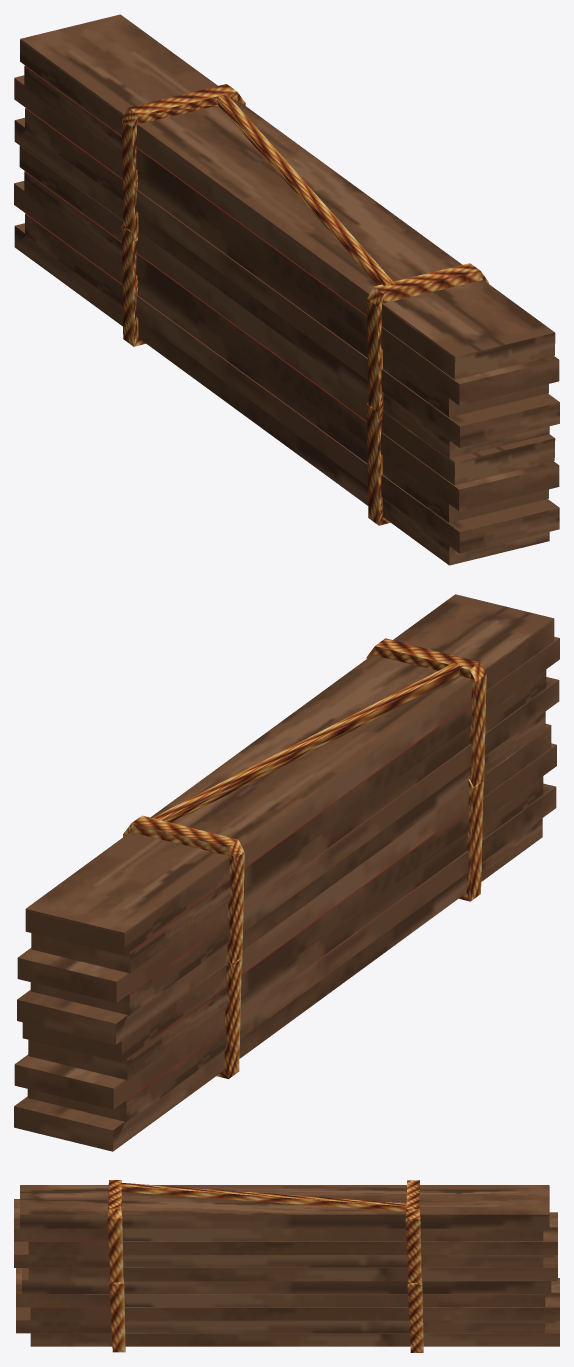
File: DJG_BoundPlanks10.fbx
3 renders of one model, top to bottom at view 1: azimuth 30°, elevation 25°; view 2: azimuth 150°, elevation 25°; view 3: azimuth 270°, elevation 25°, orthographic. The views are drawn at different scales.
Parts seen in each view (by area): view 1: Bound Planks x10; view 2: Bound Planks x10; view 3: Bound Planks x10.
Part boxes in pixels (x1,y1,x2,y2): Bound Planks x10: (14,14,559,565); Bound Planks x10: (14,594,559,1151); Bound Planks x10: (14,1180,559,1352).
Bounding box in the file's own units: 0.0891 × 0.1745 × 0.609.
Materials: 1 (1 with a texture image).
